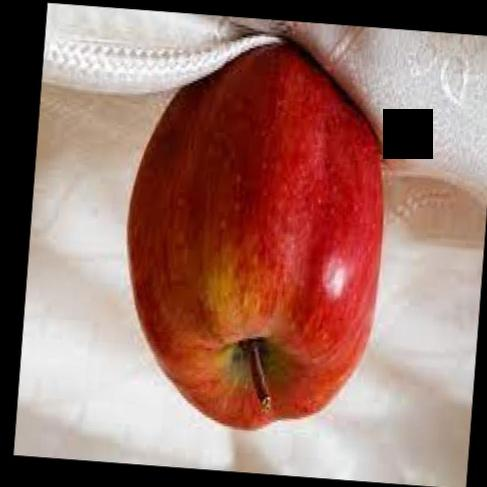red apple: (114, 42, 390, 435)
